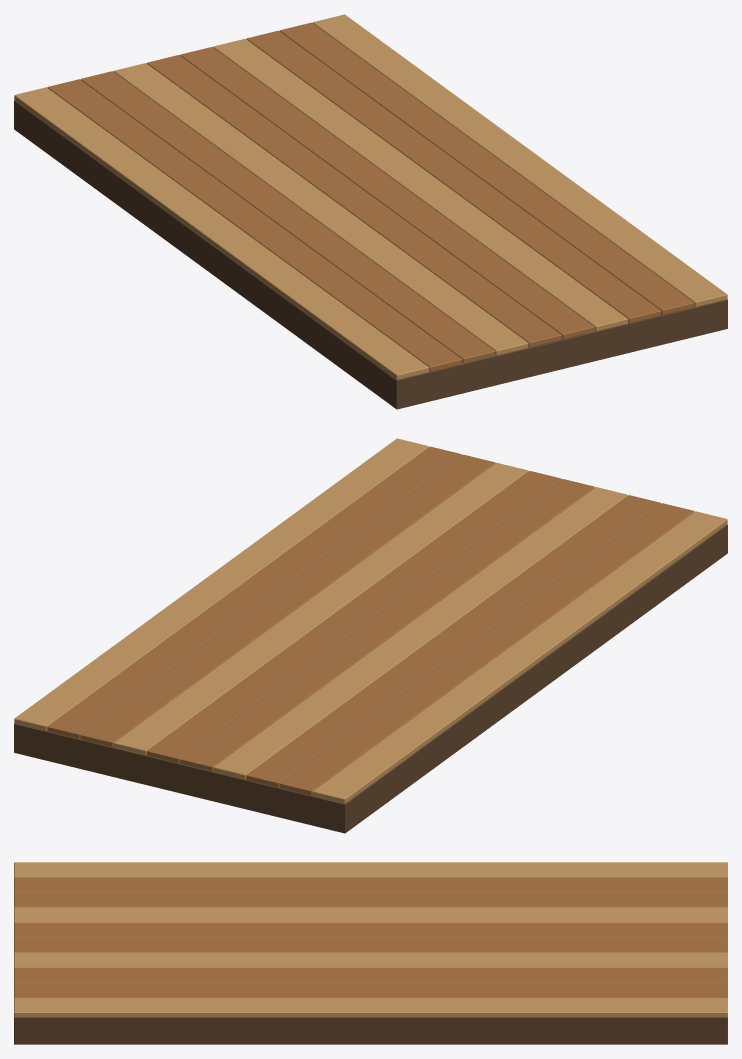
File: b21_floor_timber_2x4m.glb
3 renders of one model, top to bottom at view 1: azimuth 30°, elevation 25°; view 2: azimuth 150°, elevation 25°; view 3: azimuth 270°, elevation 25°, orthographic. The views are drawn at different scales.
Parts seen in each view (by area): view 1: b21_floor_timber_2x4m; view 2: b21_floor_timber_2x4m; view 3: b21_floor_timber_2x4m.
Part boxes in pixels (<box>): b21_floor_timber_2x4m: <box>14,14,727,409</box>; b21_floor_timber_2x4m: <box>14,438,727,833</box>; b21_floor_timber_2x4m: <box>14,862,727,1044</box>.
Size of the model in its own units: 2 by 0.2 by 4.
